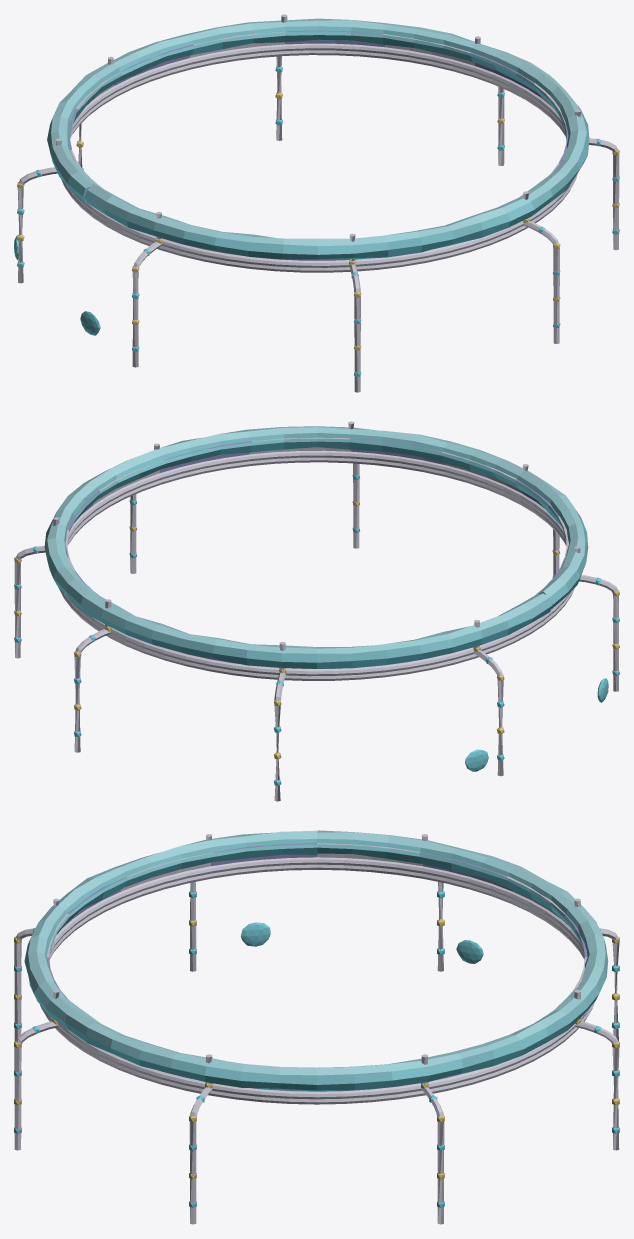
Rendered from goo_jar_trim_1_mid@space.fbx.
3 views of the same model, one above another, from view 1: azimuth 30°, elevation 25°; view 2: azimuth 150°, elevation 25°; view 3: azimuth 270°, elevation 25° (orthographic). The views are drawn at different scales.
Visible parts, largest first — view 1: goo_jar_trim_1_mid; view 2: goo_jar_trim_1_mid; view 3: goo_jar_trim_1_mid.
Boxes of the visible parts, <box> form: goo_jar_trim_1_mid: <box>14,14,619,392</box>; goo_jar_trim_1_mid: <box>14,421,619,801</box>; goo_jar_trim_1_mid: <box>14,830,619,1224</box>.
Size of the model in its own units: 60.37 by 16.05 by 58.38.
